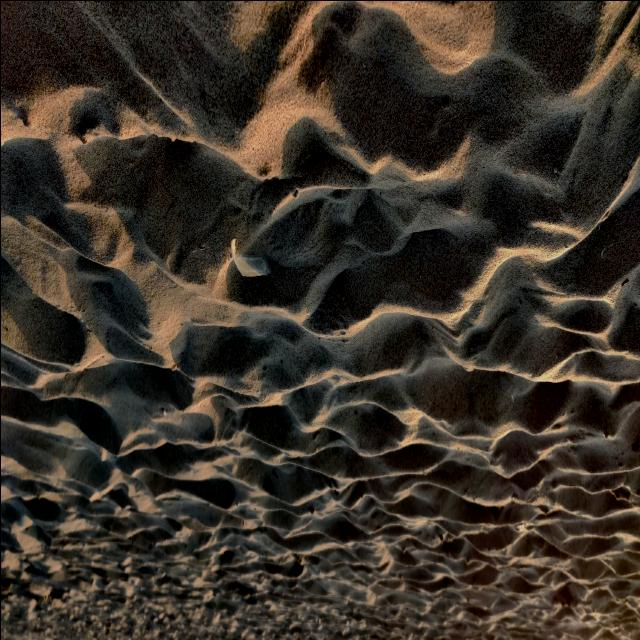Plastic film: (230, 237, 270, 276)
